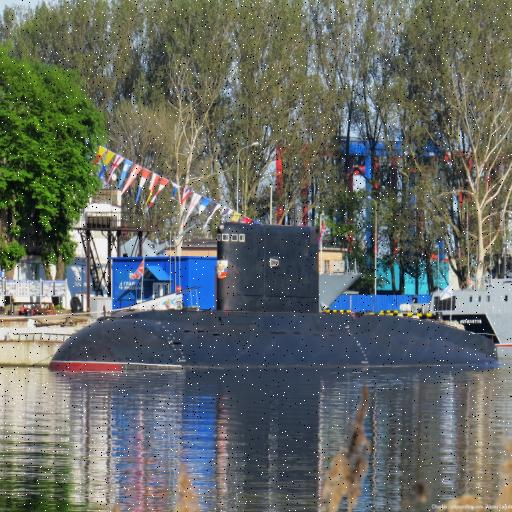submarine: (47, 218, 512, 374)
